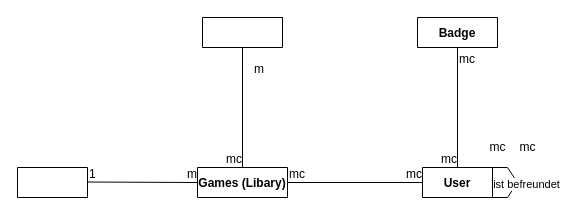
The diagram is 578 pixels wide and 216 high, and some of its shapes have lost their labels. The shapes that lost their labels are listed below. From the top down, each one's centre as x and y in pixels, then its label:
At (242,32): "MultiplayerTyp".
At (52,182): "Kategorie".
